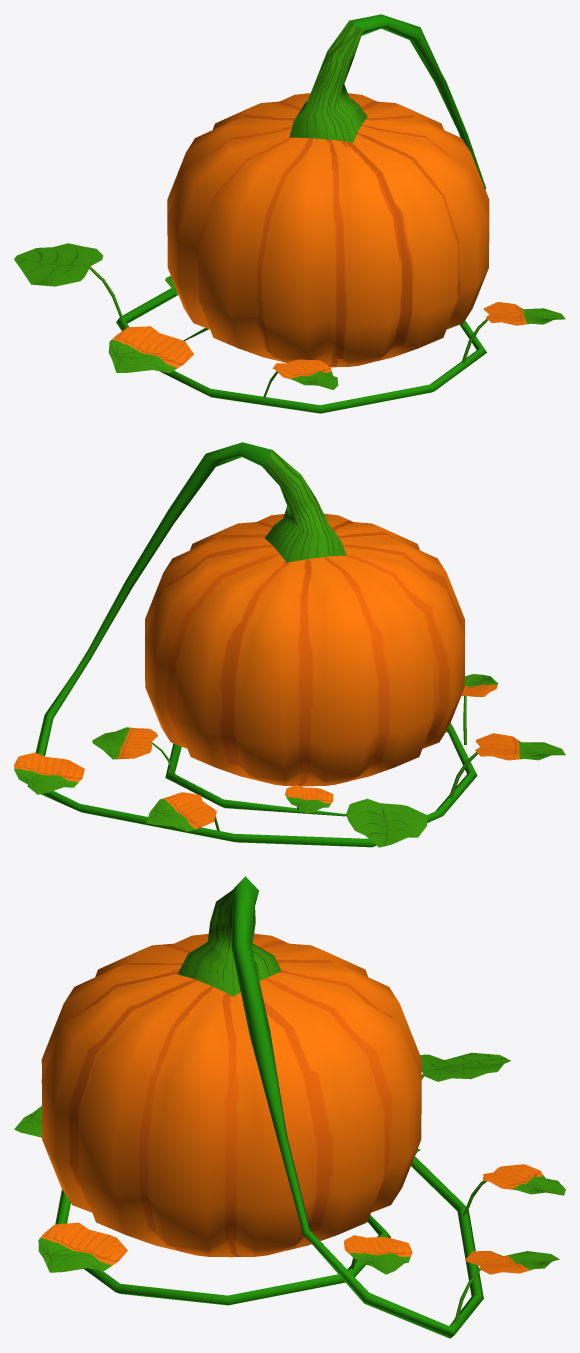
File: Pumpkin Stage 2.fbx
3 renders of one model, top to bottom at view 1: azimuth 30°, elevation 25°; view 2: azimuth 150°, elevation 25°; view 3: azimuth 270°, elevation 25°, orthographic. The views are drawn at different scales.
Visible parts, largest first — view 1: Pumpkin_Full_Grown, Pumpkin_Vines_Full_Grown, polySurface90, polySurface86, polySurface93, polySurface91; view 2: Pumpkin_Full_Grown, Pumpkin_Vines_Full_Grown, polySurface86, polySurface89, polySurface88, polySurface90, polySurface95, polySurface97, polySurface91; view 3: Pumpkin_Full_Grown, Pumpkin_Vines_Full_Grown, polySurface93, polySurface95, polySurface86, polySurface89, polySurface88.
Boxes of the visible parts, x1,y1,x2,y2 form: Pumpkin_Full_Grown: (167, 21, 489, 367); Pumpkin_Vines_Full_Grown: (116, 14, 486, 413); polySurface90: (108, 326, 193, 373); polySurface86: (14, 243, 123, 318); polySurface93: (461, 302, 565, 363); polySurface91: (263, 359, 338, 397); Pumpkin_Full_Grown: (145, 450, 464, 786); Pumpkin_Vines_Full_Grown: (27, 442, 477, 847); polySurface86: (346, 798, 427, 847); polySurface89: (14, 752, 84, 794); polySurface88: (146, 792, 219, 831); polySurface90: (448, 733, 565, 798); polySurface95: (92, 727, 175, 775); polySurface97: (285, 785, 333, 813); polySurface91: (461, 674, 498, 744); Pumpkin_Full_Grown: (41, 890, 421, 1257); Pumpkin_Vines_Full_Grown: (55, 876, 483, 1338); polySurface93: (38, 1222, 127, 1272); polySurface95: (344, 1235, 412, 1274); polySurface86: (420, 1052, 510, 1081); polySurface89: (454, 1251, 559, 1323); polySurface88: (462, 1164, 565, 1215).
Bounding box in the file's own units: 0.6489 × 0.4446 × 0.5948.
Materials: 2 (1 with a texture image).
